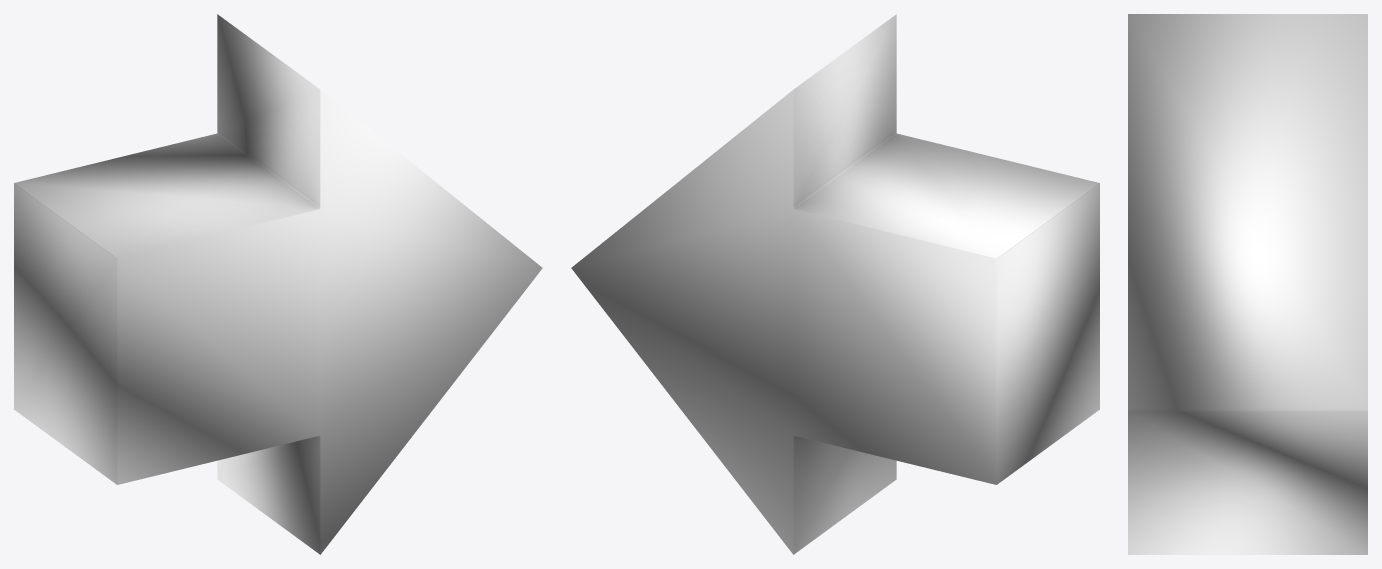
The model's file is Arrow01.fbx.
3 views of the same model, side by side, from view 1: azimuth 30°, elevation 25°; view 2: azimuth 150°, elevation 25°; view 3: azimuth 270°, elevation 25° (orthographic). The views are drawn at different scales.
Parts seen in each view (by area): view 1: Arrow01; view 2: Arrow01; view 3: Arrow01.
Part boxes in pixels (x1,y1,x2,y2): Arrow01: (14, 14, 542, 554); Arrow01: (571, 14, 1099, 554); Arrow01: (1128, 14, 1367, 554).
Size of the model in its own units: 4.78 by 5 by 2.01.
